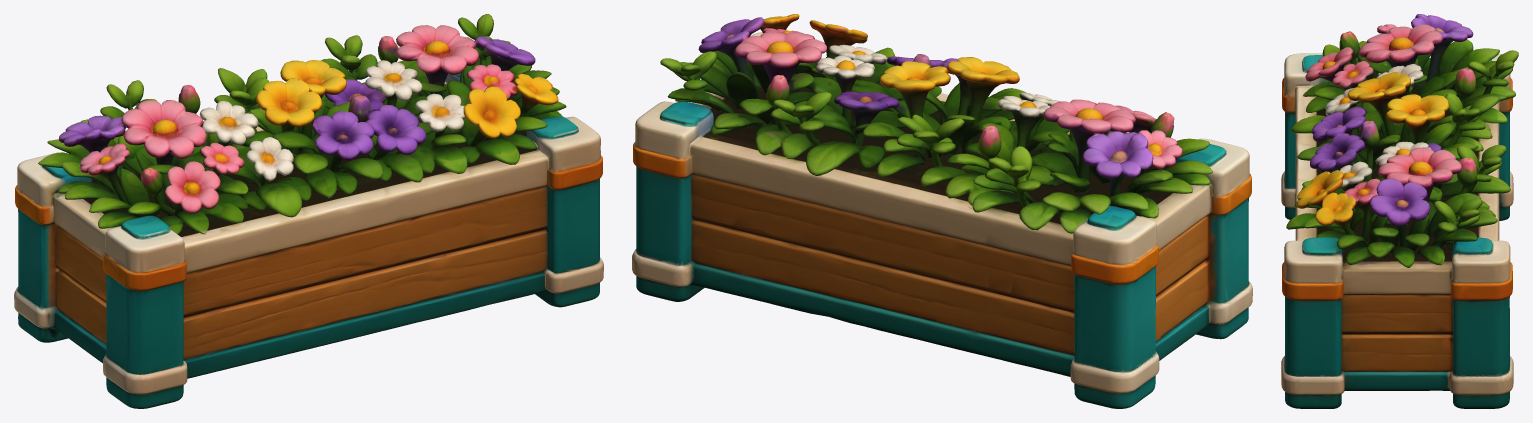
The model's file is FlowerPlanter.fbx.
The picture shows the model from 3 angles, left to right: view 1: azimuth 30°, elevation 25°; view 2: azimuth 150°, elevation 25°; view 3: azimuth 270°, elevation 25°; orthographic projection. The views are drawn at different scales.
Visible parts, largest first — view 1: tripo_node_c52df16c-a4a7-4042-92fa-29101f344061; view 2: tripo_node_c52df16c-a4a7-4042-92fa-29101f344061; view 3: tripo_node_c52df16c-a4a7-4042-92fa-29101f344061.
Boxes of the visible parts, x1,y1,x2,y2 form: tripo_node_c52df16c-a4a7-4042-92fa-29101f344061: (14,14,603,408); tripo_node_c52df16c-a4a7-4042-92fa-29101f344061: (632,14,1252,408); tripo_node_c52df16c-a4a7-4042-92fa-29101f344061: (1281,14,1518,408).
Bounding box in the file's own units: 98.13 × 45.37 × 45.9.
Materials: 1 (1 with a texture image).
